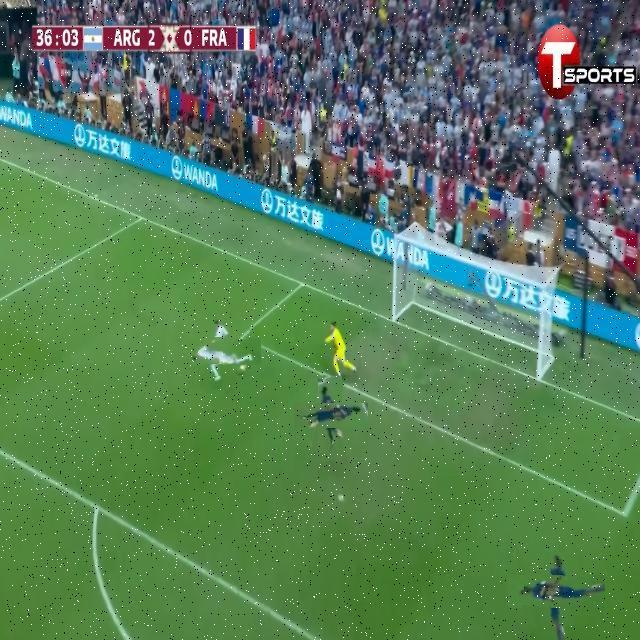ball: (237, 361, 249, 373)
goalkeeper: (324, 320, 367, 382)
player: (523, 558, 591, 626), (197, 324, 250, 378), (306, 391, 356, 441)
